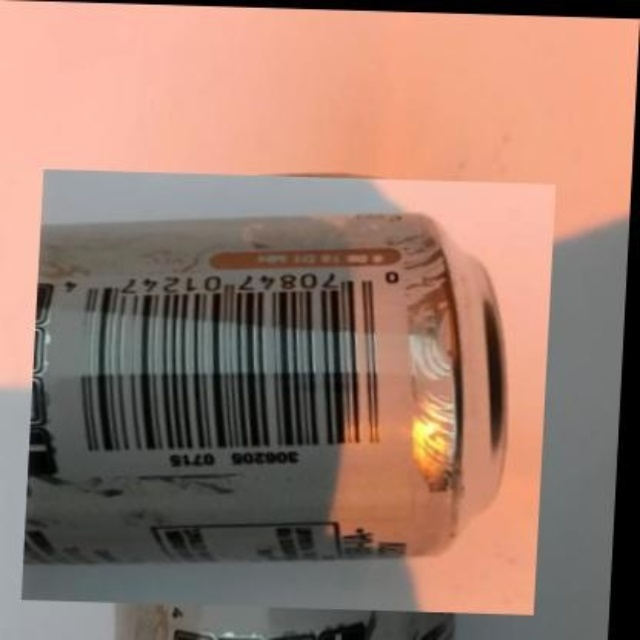trash: (26, 175, 505, 562)
